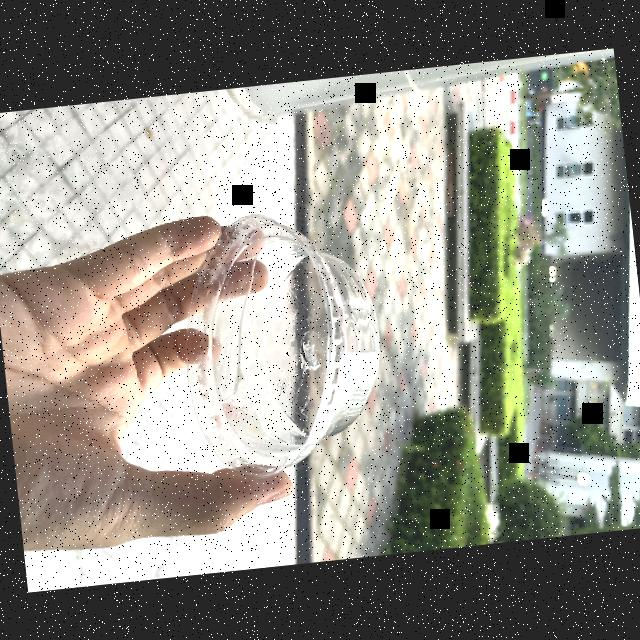plastic_cup_lid: (168, 200, 398, 488)
